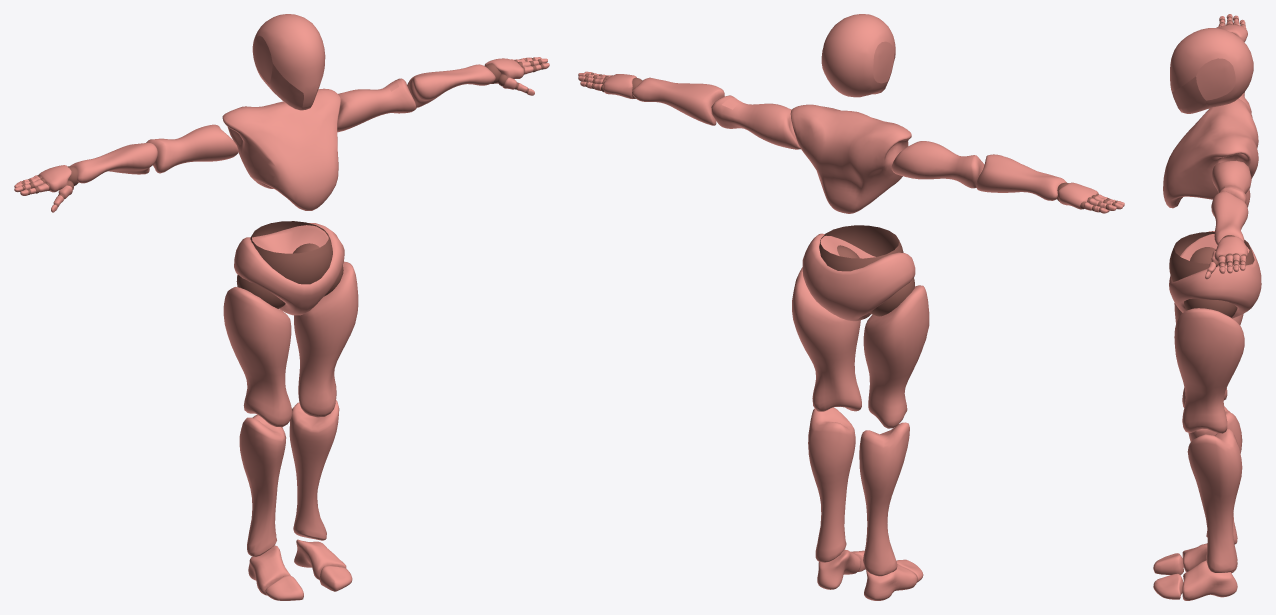
The model's file is final_champ.fbx.
3 views of the same model, side by side, from view 1: azimuth 30°, elevation 25°; view 2: azimuth 150°, elevation 25°; view 3: azimuth 270°, elevation 25° (orthographic). The views are drawn at different scales.
Visible parts, largest first — view 1: Buste, Pelvis, leg_upper_r, leg_upper_l, head, leg_lower_r, leg_lower_l, arm_lower_r, arm_lower_l, arm_upper_r, arm_upper_l, feet_r (+1 smaller); view 2: Buste, Pelvis, leg_upper_r, leg_upper_l, leg_lower_l, head, leg_lower_r, arm_lower_r, arm_lower_l, arm_upper_r, arm_upper_l, feet_r (+1 smaller); view 3: leg_upper_l, Buste, head, Pelvis, leg_lower_l, arm_lower_l, feet_l, arm_upper_l, feet_r, leg_lower_r, arm_lower_r, leg_upper_r.
Part boxes in pixels (x1,y1,x2,y2): Buste: (222, 88, 340, 210); Pelvis: (234, 221, 344, 315); leg_upper_r: (223, 287, 292, 427); leg_upper_l: (294, 261, 358, 417); head: (252, 14, 325, 110); leg_lower_r: (239, 414, 286, 556); leg_lower_l: (289, 400, 339, 540); arm_lower_r: (14, 142, 157, 212); arm_lower_l: (407, 57, 549, 107); arm_upper_r: (146, 124, 238, 173); arm_upper_l: (337, 78, 416, 132); feet_r: (248, 545, 303, 600); Buste: (790, 104, 911, 213); Pelvis: (802, 225, 915, 321); leg_upper_r: (863, 285, 929, 428); leg_upper_l: (792, 267, 861, 411); leg_lower_l: (808, 407, 855, 562); head: (821, 14, 895, 97); leg_lower_r: (859, 422, 909, 576); arm_lower_r: (976, 154, 1124, 213); arm_lower_l: (578, 71, 724, 125); arm_upper_r: (891, 141, 984, 188); arm_upper_l: (711, 95, 800, 149); feet_r: (864, 559, 923, 600); leg_upper_l: (1174, 308, 1244, 433); Buste: (1163, 98, 1258, 208); head: (1170, 28, 1253, 113); Pelvis: (1169, 231, 1261, 318); leg_lower_l: (1187, 429, 1242, 572); arm_lower_l: (1205, 191, 1248, 279); feet_l: (1153, 560, 1237, 600); arm_upper_l: (1211, 160, 1251, 203); feet_r: (1153, 543, 1237, 574); leg_lower_r: (1188, 406, 1242, 544); arm_lower_r: (1216, 14, 1247, 42); leg_upper_r: (1174, 302, 1243, 407).
Size of the model in its own units: 18051 by 18092 by 3207.
